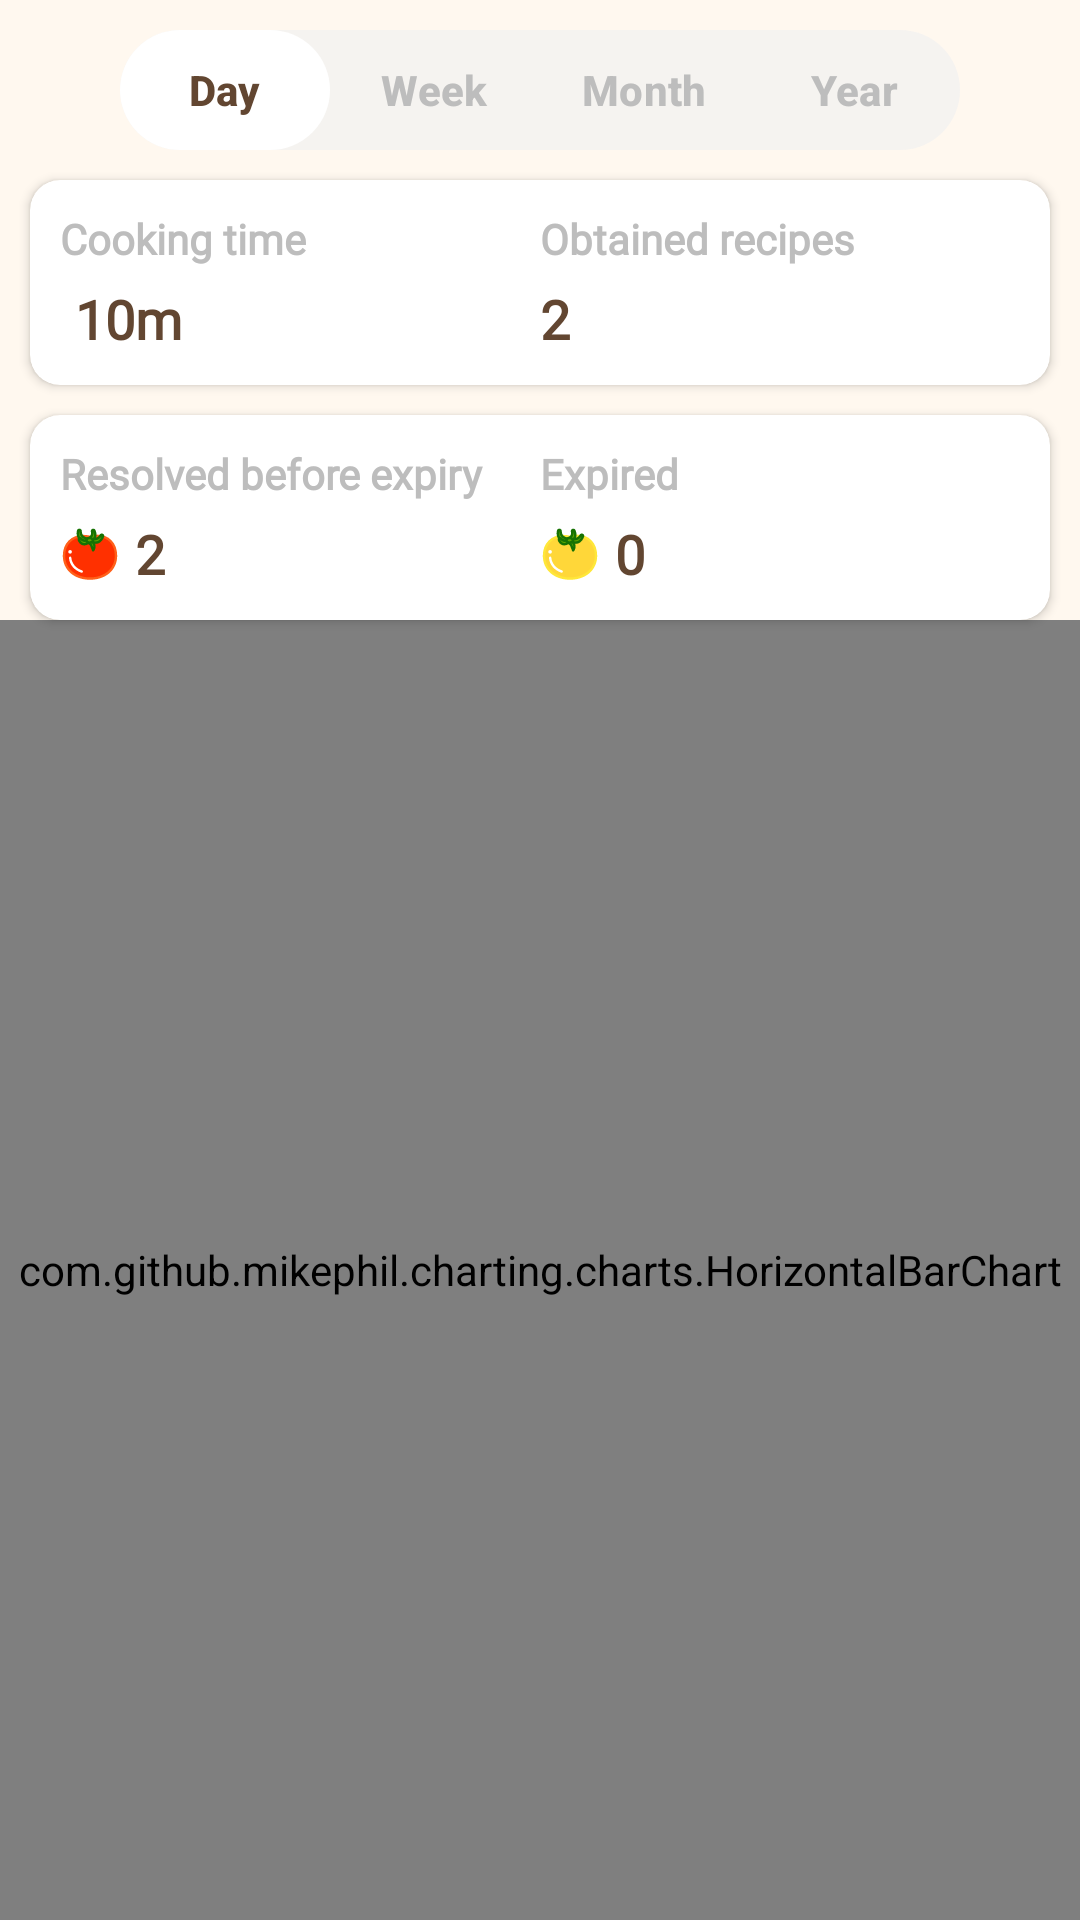

Screen size 1080×1920. Icon name, then its box in pixels as (x1, y1, x2, y2):
tomato no: (542, 528, 598, 580)
tomato ok: (62, 528, 118, 580)
